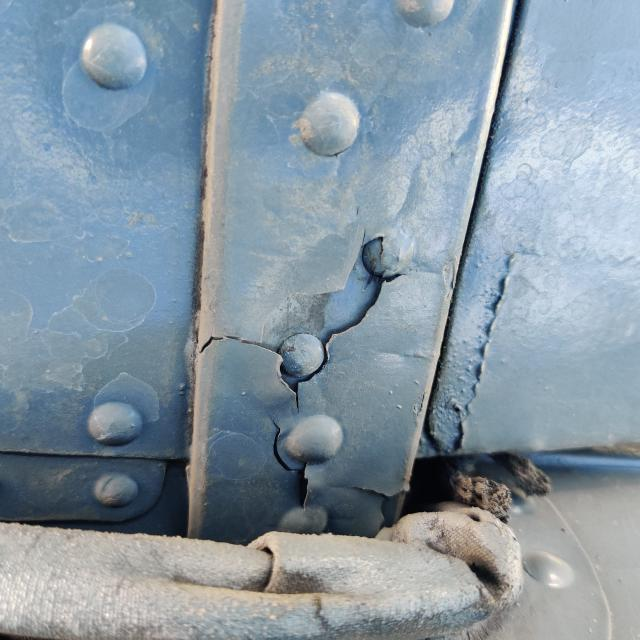Crack: (189, 228, 416, 542), (319, 468, 415, 518)
